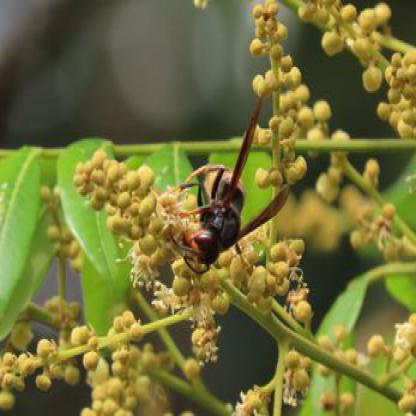Asian Hornet: (166, 94, 288, 278)
